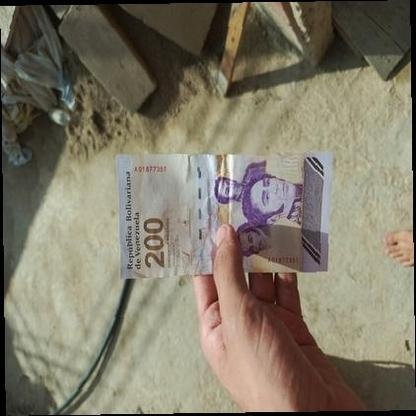two_hundred-front-vef: (117, 149, 334, 278)
